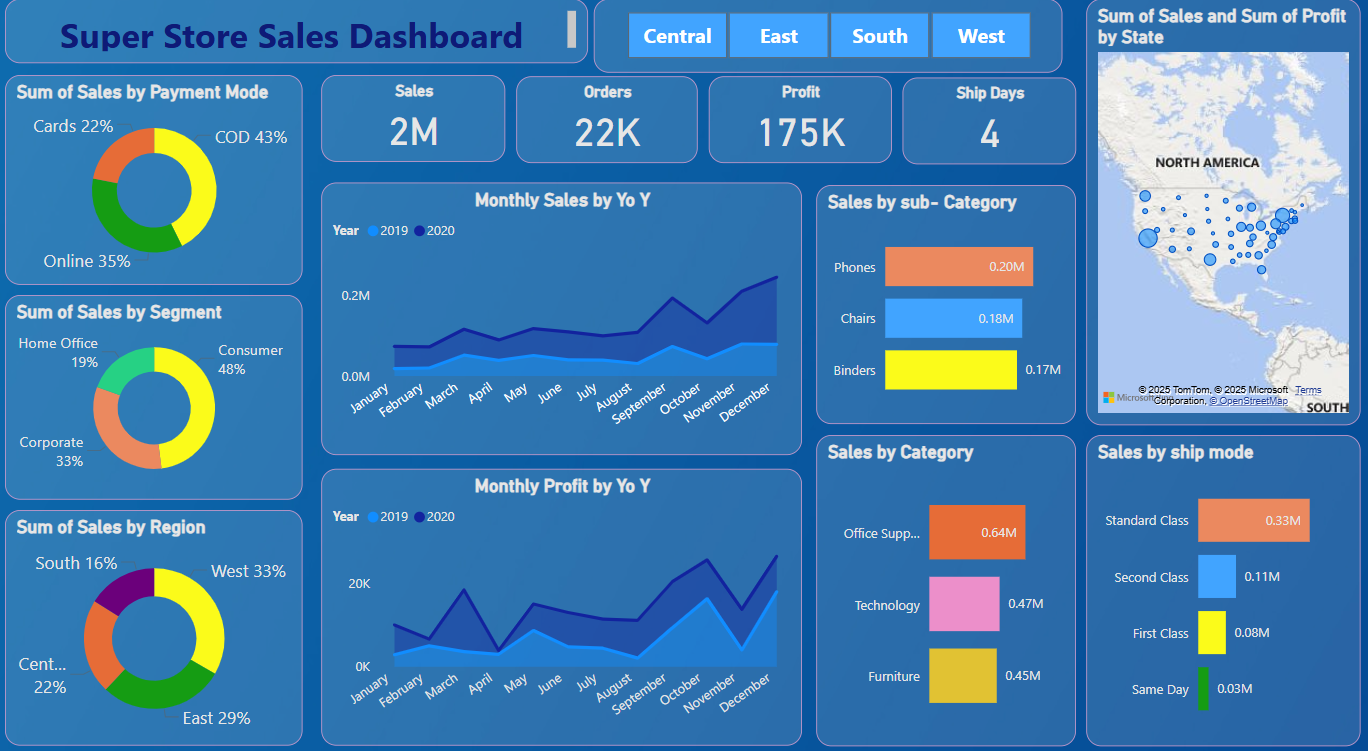

Layout of this report page (visuals, bound fields, positions):
{"tool":"powerbi","page":{"name":"Sales dashoard","canvas":[1280,720],"ordinal":0},"visuals":[{"type":"clusteredBarChart","title":"Sales by Category","fields":{"Category":["SuperStore_Sales_Dataset.Category"],"Y":["Sum(SuperStore_Sales_Dataset.Sales)"]},"box":[764.3,418.5,241.5,289.5],"z":0},{"type":"clusteredBarChart","title":"Sales by sub- Category","fields":{"Category":["SuperStore_Sales_Dataset.Sub-Category"],"Y":["Sum(SuperStore_Sales_Dataset.Sales)"]},"box":[764.3,186.6,241.5,222.3],"z":1000},{"type":"clusteredBarChart","title":"Sales by ship mode","fields":{"Y":["Sum(SuperStore_Sales_Dataset.Sales)"],"Category":["SuperStore_Sales_Dataset.Ship Mode"]},"box":[1015.4,418.5,255.2,289.5],"z":2000},{"type":"stackedAreaChart","title":"Monthly  Sales by Yo Y","fields":{"Category":["SuperStore_Sales_Dataset.Order Date.Variation.Date Hierarchy.Month","SuperStore_Sales_Dataset.Order Date.Variation.Date Hierarchy.Day"],"Y":["Sum(SuperStore_Sales_Dataset.Sales)"],"Series":["SuperStore_Sales_Dataset.Order Date.Variation.Date Hierarchy.Year"]},"box":[303.3,183.9,447.3,253.9],"z":3000},{"type":"stackedAreaChart","title":"Monthly Profit by Yo Y","fields":{"Category":["SuperStore_Sales_Dataset.Order Date.Variation.Date Hierarchy.Month","SuperStore_Sales_Dataset.Order Date.Variation.Date Hierarchy.Day"],"Series":["SuperStore_Sales_Dataset.Order Date.Variation.Date Hierarchy.Year"],"Y":["Sum(SuperStore_Sales_Dataset.Profit)"]},"box":[303.3,450.1,447.3,258],"z":4000},{"type":"map","fields":{"Category":["SuperStore_Sales_Dataset.State"],"Size":["Sum(SuperStore_Sales_Dataset.Sales)"]},"box":[1015.4,12.3,255.2,396.6],"z":5000},{"type":"donutChart","fields":{"Category":["SuperStore_Sales_Dataset.Segment"],"Y":["Sum(SuperStore_Sales_Dataset.Sales)"]},"box":[9.6,288.2,277.2,190.7],"z":6000},{"type":"donutChart","fields":{"Y":["Sum(SuperStore_Sales_Dataset.Sales)"],"Category":["SuperStore_Sales_Dataset.Region"]},"box":[9.6,488.5,277.2,219.6],"z":7000},{"type":"slicer","fields":{"Values":["SuperStore_Sales_Dataset.Region"]},"box":[557.1,12.3,436.4,68.6],"z":8000},{"type":"textbox","box":[9.6,12.3,542,60.4],"z":9000},{"type":"card","title":"Sales","fields":{"Values":["Sum(SuperStore_Sales_Dataset.Sales)"]},"box":[303.3,83.7,171.5,81],"z":10000},{"type":"card","title":"Orders","fields":{"Values":["Sum(SuperStore_Sales_Dataset.Quantity)"]},"box":[484.4,85.1,168.8,81],"z":11000},{"type":"card","title":"Profit","fields":{"Values":["Sum(SuperStore_Sales_Dataset.Profit)"]},"box":[664.2,85.1,170.2,81],"z":12000},{"type":"card","title":"Ship Days","fields":{"Values":["Avg(SuperStore_Sales_Dataset.AvgDelivery)"]},"box":[843.9,86.4,161.9,81],"z":13000},{"type":"donutChart","fields":{"Y":["Sum(SuperStore_Sales_Dataset.Sales)"],"Category":["SuperStore_Sales_Dataset.Payment Mode"]},"box":[9.6,83.7,277.2,194.9],"z":13001}]}

Visuals, with their boxes in screenshot pixels (x1, y1, x2, y2), scaled from the page's 1280x720 canvas onto the 1368x751 screenshot:
"Sales by Category" clusteredBarChart: x1=817, y1=437, x2=1075, y2=738
"Sales by sub- Category" clusteredBarChart: x1=817, y1=195, x2=1075, y2=427
"Sales by ship mode" clusteredBarChart: x1=1085, y1=437, x2=1358, y2=738
"Monthly  Sales by Yo Y" stackedAreaChart: x1=324, y1=192, x2=802, y2=457
"Monthly Profit by Yo Y" stackedAreaChart: x1=324, y1=469, x2=802, y2=739
map - SuperStore_Sales_Dataset.State x Sum(SuperStore_Sales_Dataset.Sales): x1=1085, y1=13, x2=1358, y2=427
donutChart - SuperStore_Sales_Dataset.Segment x Sum(SuperStore_Sales_Dataset.Sales): x1=10, y1=301, x2=307, y2=500
donutChart - Sum(SuperStore_Sales_Dataset.Sales) x SuperStore_Sales_Dataset.Region: x1=10, y1=510, x2=307, y2=739
slicer - SuperStore_Sales_Dataset.Region: x1=595, y1=13, x2=1062, y2=84
textbox: x1=10, y1=13, x2=590, y2=76
"Sales" card: x1=324, y1=87, x2=507, y2=172
"Orders" card: x1=518, y1=89, x2=698, y2=173
"Profit" card: x1=710, y1=89, x2=892, y2=173
"Ship Days" card: x1=902, y1=90, x2=1075, y2=175
donutChart - Sum(SuperStore_Sales_Dataset.Sales) x SuperStore_Sales_Dataset.Payment Mode: x1=10, y1=87, x2=307, y2=291
